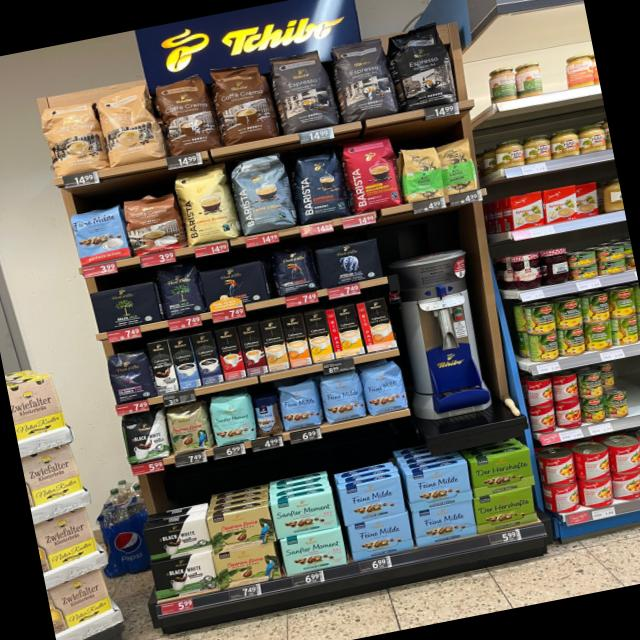AB Gemahlen: (316, 238, 384, 290)
Athiopien Bohne: (436, 137, 480, 197)
Athiopien Gemahlen: (397, 143, 446, 204)
BM Bohne: (154, 260, 207, 320)
BM Gemahlen: (90, 281, 164, 334)
BW Bohne: (120, 409, 171, 467)
BW Gemahlen: (149, 551, 219, 601), (142, 516, 213, 564)
Barista CB: (173, 163, 241, 247)
Barista CC: (228, 150, 300, 238)
Barista Espresso: (287, 146, 353, 226)
Barista Kolumbien: (339, 133, 404, 216)
C Fino Bohne: (105, 348, 157, 405)
CC Mild: (94, 83, 168, 168), (37, 100, 110, 179)
CC Vollmundig: (123, 191, 187, 257)
CC Vollmundig 36 Pads: (207, 61, 280, 146), (153, 71, 223, 157)
Colombia BB Bohne: (166, 400, 215, 456)
Colombia BB Gemahlen: (212, 542, 283, 591), (207, 505, 276, 554)
FM 36 Pads: (68, 202, 133, 269)
FM Bohne: (318, 370, 369, 425), (360, 361, 410, 417), (276, 377, 325, 433)
FM Gemahlen: (340, 475, 407, 527), (406, 461, 473, 513), (347, 512, 415, 562), (411, 501, 478, 548)
FM Instant: (253, 392, 285, 438)
Herzhatfe Mundig: (470, 448, 536, 499), (475, 486, 538, 534)
LG Bohne: (268, 242, 321, 298)
LG Gemahlen: (197, 259, 271, 312)
SM Bohne: (207, 391, 257, 448)
SM Gemahlen: (279, 528, 348, 577), (271, 491, 338, 540)
Simo CCMild: (326, 304, 365, 359)
Simo CCMild bigpack: (304, 310, 335, 364)
Simo CCVollmundig: (357, 297, 398, 353)
Simo CCVollmundig bigpack: (281, 314, 312, 369)
Simo Decaff: (259, 319, 290, 372)
Simo Es Brazil: (215, 327, 247, 381)
Simo Es Caramel: (237, 323, 269, 378)
Simo Es Elegant: (148, 339, 179, 395)
Simo Es Kraft: (191, 331, 224, 386)
Simo Es Vanilla: (169, 336, 202, 390)
